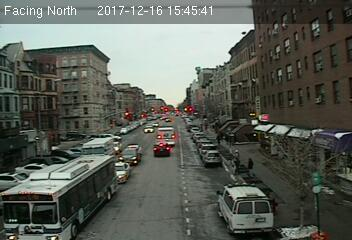bus: (1, 153, 122, 240)
car: (120, 147, 144, 165), (202, 150, 221, 164), (153, 142, 171, 156)
police: (217, 179, 278, 235)
truck: (156, 126, 176, 146)
